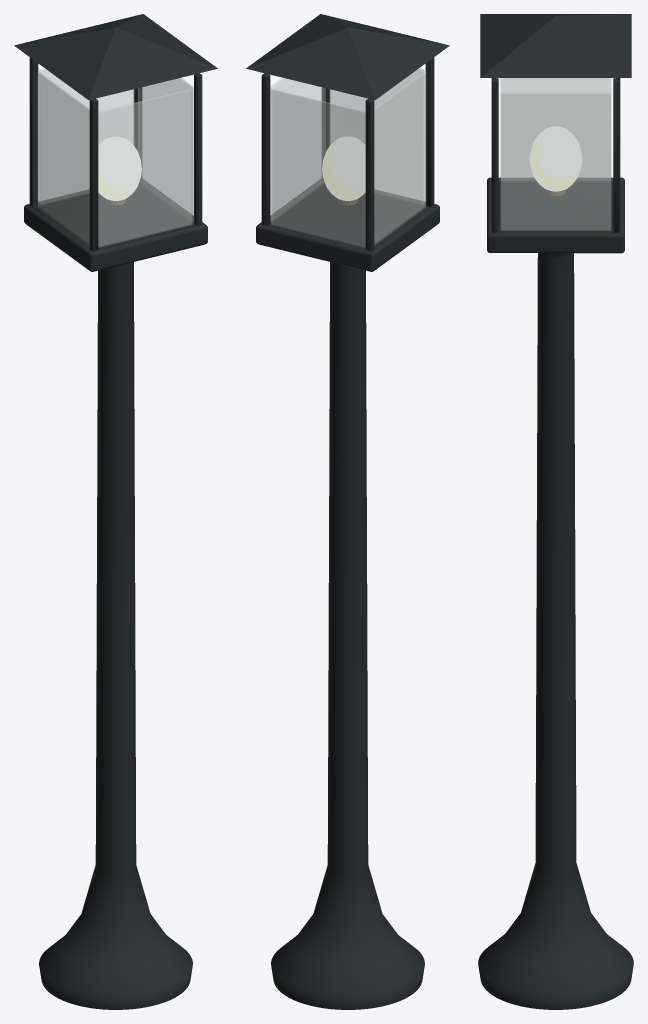
File: post-top-lantern-optimized.glb
3 views of the same model, side by side, from view 1: azimuth 30°, elevation 25°; view 2: azimuth 150°, elevation 25°; view 3: azimuth 270°, elevation 25° (orthographic).
Parts seen in each view (by area): view 1: Lantern | base, Lantern | front glazing, Lamp | opal bulb; view 2: Lantern | base, Lantern | front glazing, Lamp | opal bulb; view 3: Lantern | base, Lantern | front glazing, Lamp | opal bulb.
Boxes of the visible parts, x1=… form: Lantern | base: x1=14, y1=14, x2=217, y2=1009; Lantern | front glazing: x1=37, y1=68, x2=193, y2=247; Lamp | opal bulb: x1=98, y1=136, x2=141, y2=200; Lantern | base: x1=246, y1=14, x2=449, y2=1009; Lantern | front glazing: x1=270, y1=68, x2=426, y2=247; Lamp | opal bulb: x1=322, y1=136, x2=365, y2=200; Lantern | base: x1=478, y1=14, x2=633, y2=1009; Lantern | front glazing: x1=496, y1=78, x2=615, y2=230; Lamp | opal bulb: x1=529, y1=126, x2=582, y2=191.
Bounding box in the file's own units: 0.266 × 1.81 × 0.266.
Materials: 6 (6 with a texture image).
